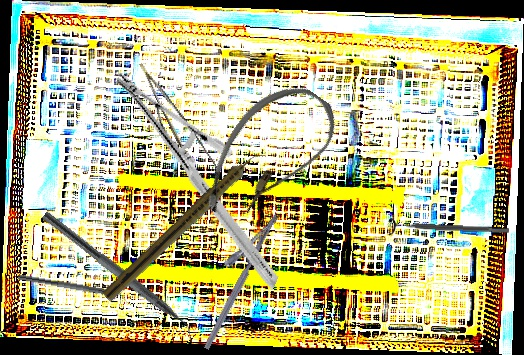Cannula: (189, 67, 349, 245)
Chopper: (33, 210, 204, 347), (16, 274, 130, 305)
Fixation Ring: (388, 216, 510, 241)
Handpiece: (101, 144, 268, 306)
Needle Holder: (64, 69, 330, 291), (184, 203, 281, 351)
Tissue Forceps: (139, 53, 222, 188)
